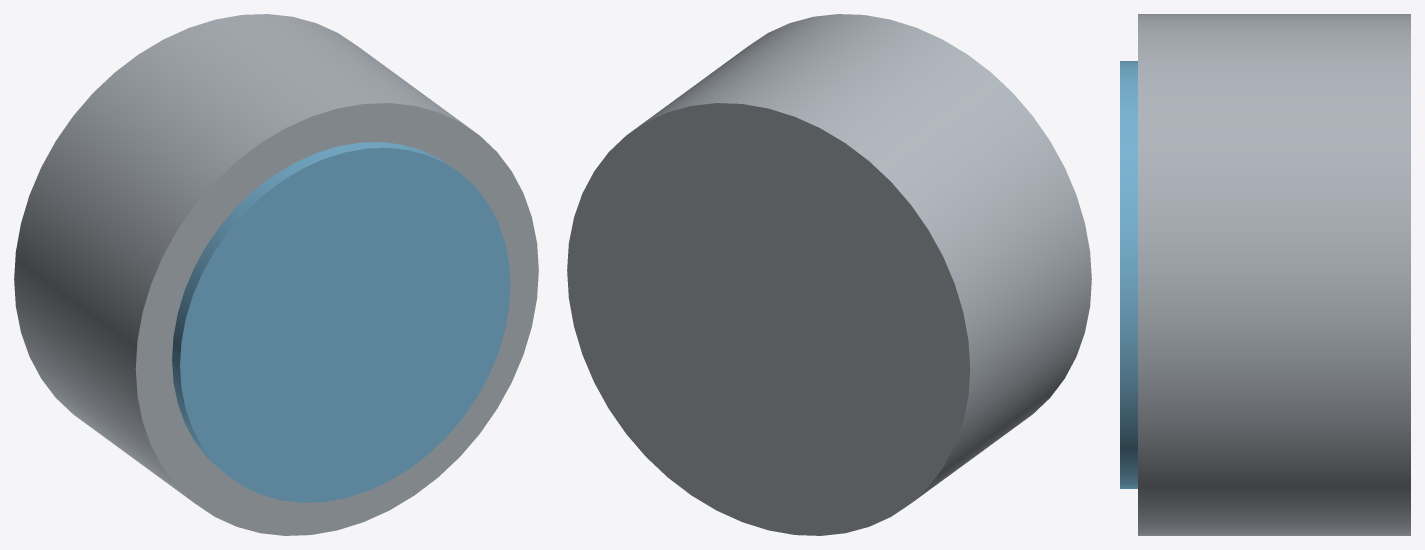
File: shoulder_link.obj
3 views of the same model, side by side, from view 1: azimuth 30°, elevation 25°; view 2: azimuth 150°, elevation 25°; view 3: azimuth 270°, elevation 25° (orthographic). The views are drawn at different scales.
Visible parts, largest first — view 1: yaw_housing, service_cap; view 2: yaw_housing; view 3: yaw_housing, service_cap.
Part boxes in pixels (left/top/right/bottom): yaw_housing: left=14, top=14, right=538, bottom=535; service_cap: left=172, top=142, right=510, bottom=502; yaw_housing: left=567, top=14, right=1091, bottom=535; yaw_housing: left=1138, top=14, right=1410, bottom=535; service_cap: left=1120, top=61, right=1137, bottom=488.
Bounding box in the file's own units: 0.176 × 0.176 × 0.098.
